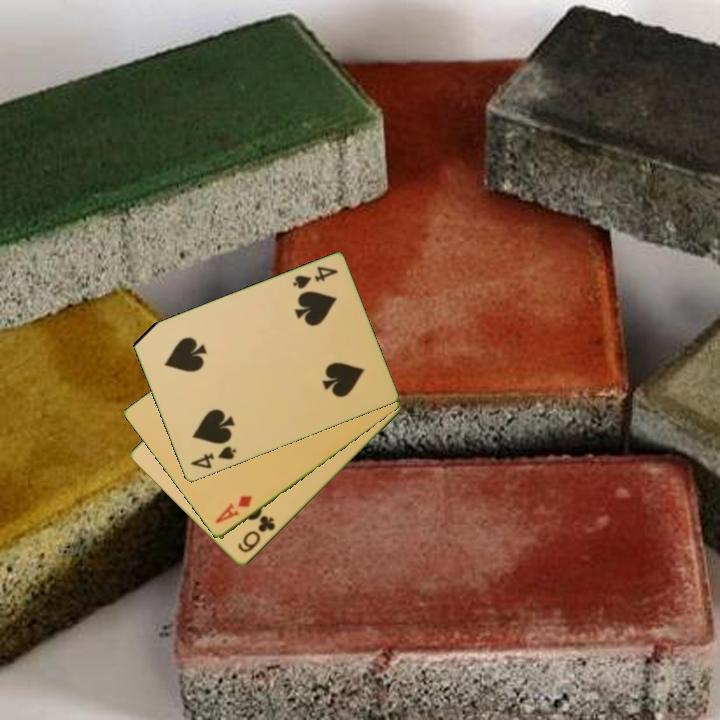4s: (187, 443, 239, 472), (289, 263, 341, 292)
6c: (234, 512, 278, 556)
Ad: (211, 492, 255, 527)
